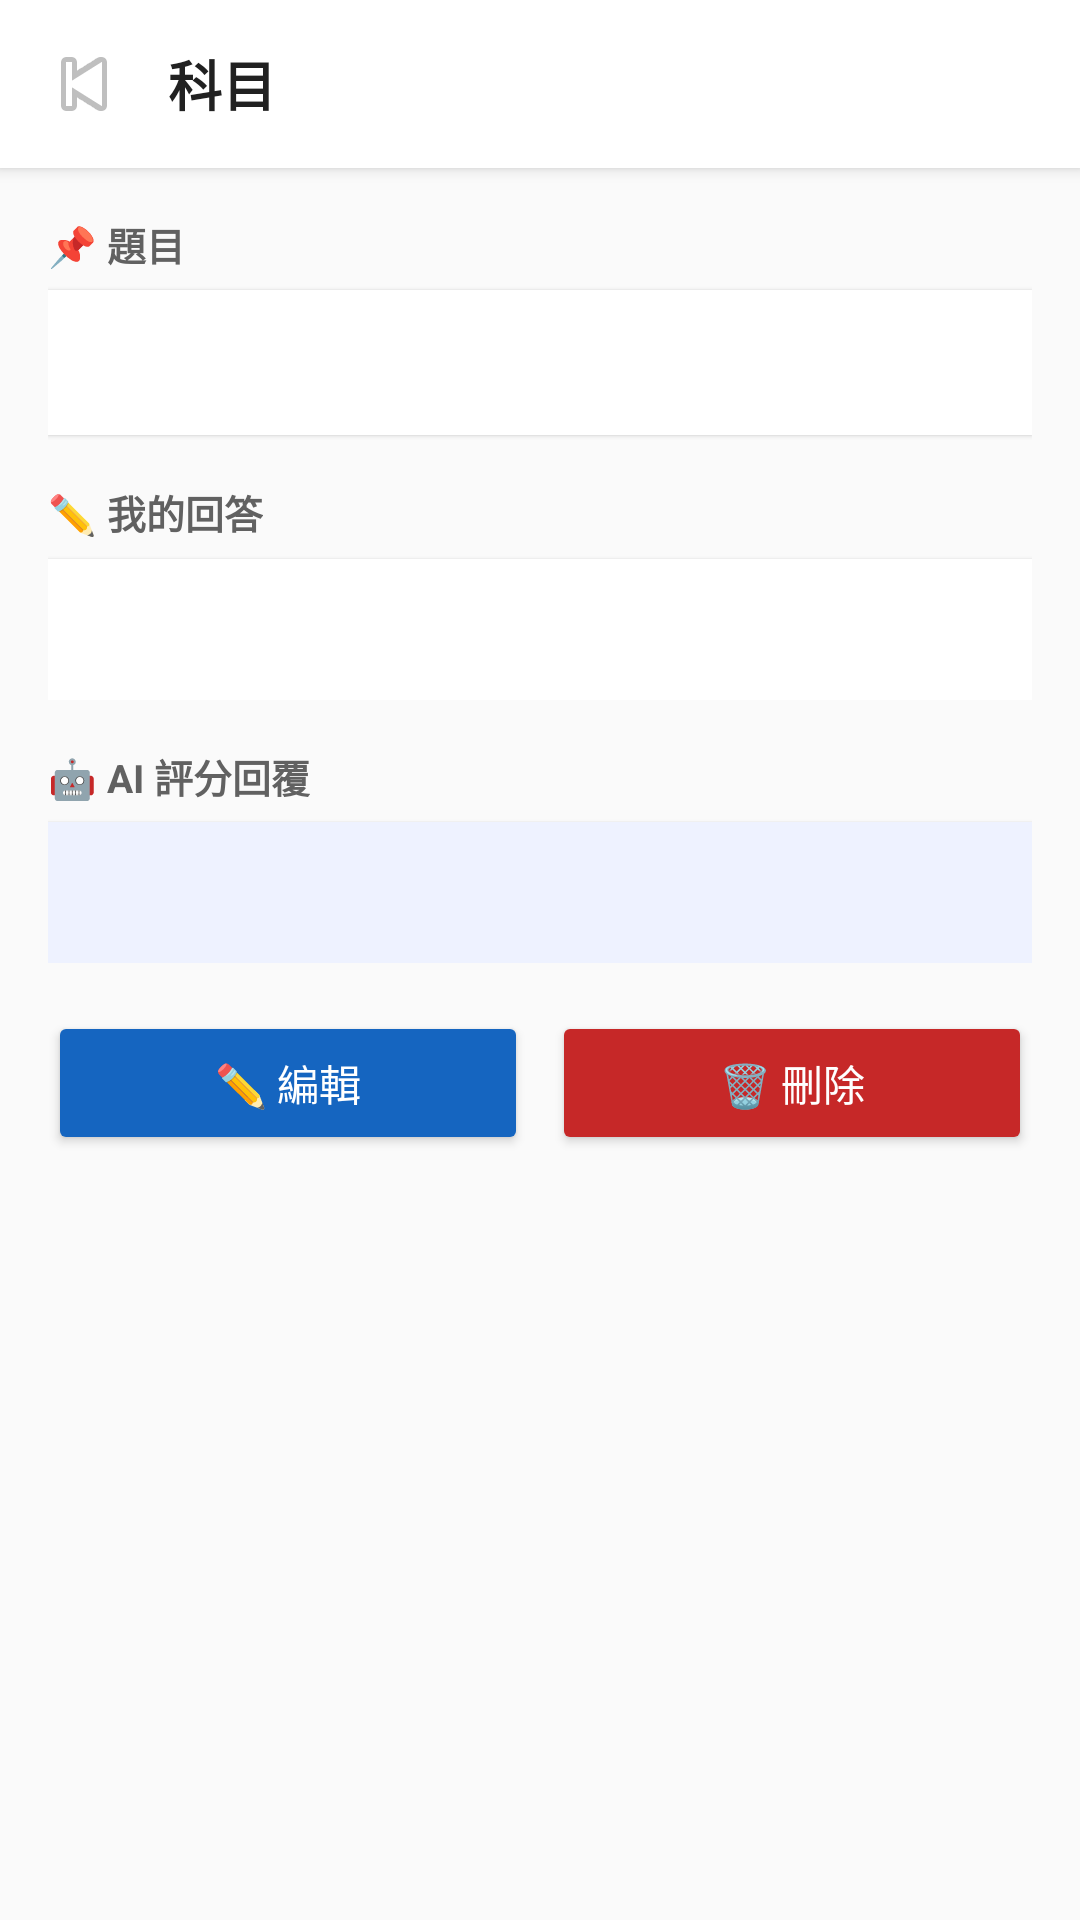

Where icons sit on this 1080px x 1920px app screen, as [left=x1, top=y1, right=x2, bottom=y2]:
返回: [left=61, top=57, right=107, bottom=111]
